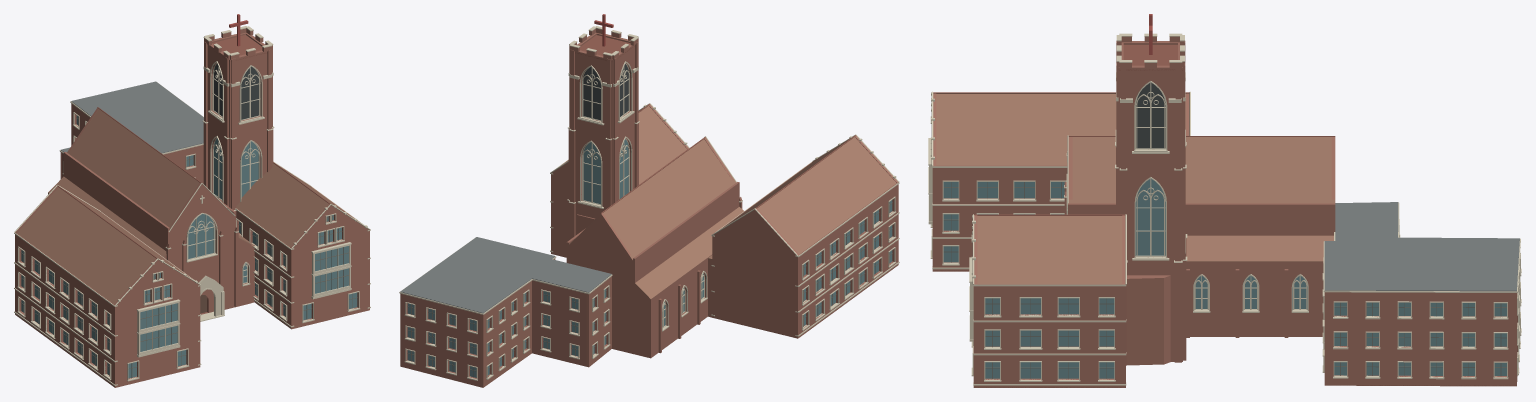
The model's file is huangpu-moore-memorial-church-lod.glb.
The picture shows the model from 3 angles, left to right: view 1: azimuth 30°, elevation 25°; view 2: azimuth 150°, elevation 25°; view 3: azimuth 270°, elevation 25°; orthographic projection. The views are drawn at different scales.
Parts seen in each view (by area): view 1: 慕尔堂（沐恩堂礼堂与钟楼）; view 2: 慕尔堂（沐恩堂礼堂与钟楼）; view 3: 慕尔堂（沐恩堂礼堂与钟楼）.
Boxes of the visible parts, x1,y1,x2,y2 form: 慕尔堂（沐恩堂礼堂与钟楼）: (14, 14, 370, 387); 慕尔堂（沐恩堂礼堂与钟楼）: (399, 14, 899, 387); 慕尔堂（沐恩堂礼堂与钟楼）: (928, 14, 1521, 387).
Size of the model in its own units: 47.08 by 42.83 by 68.92.
